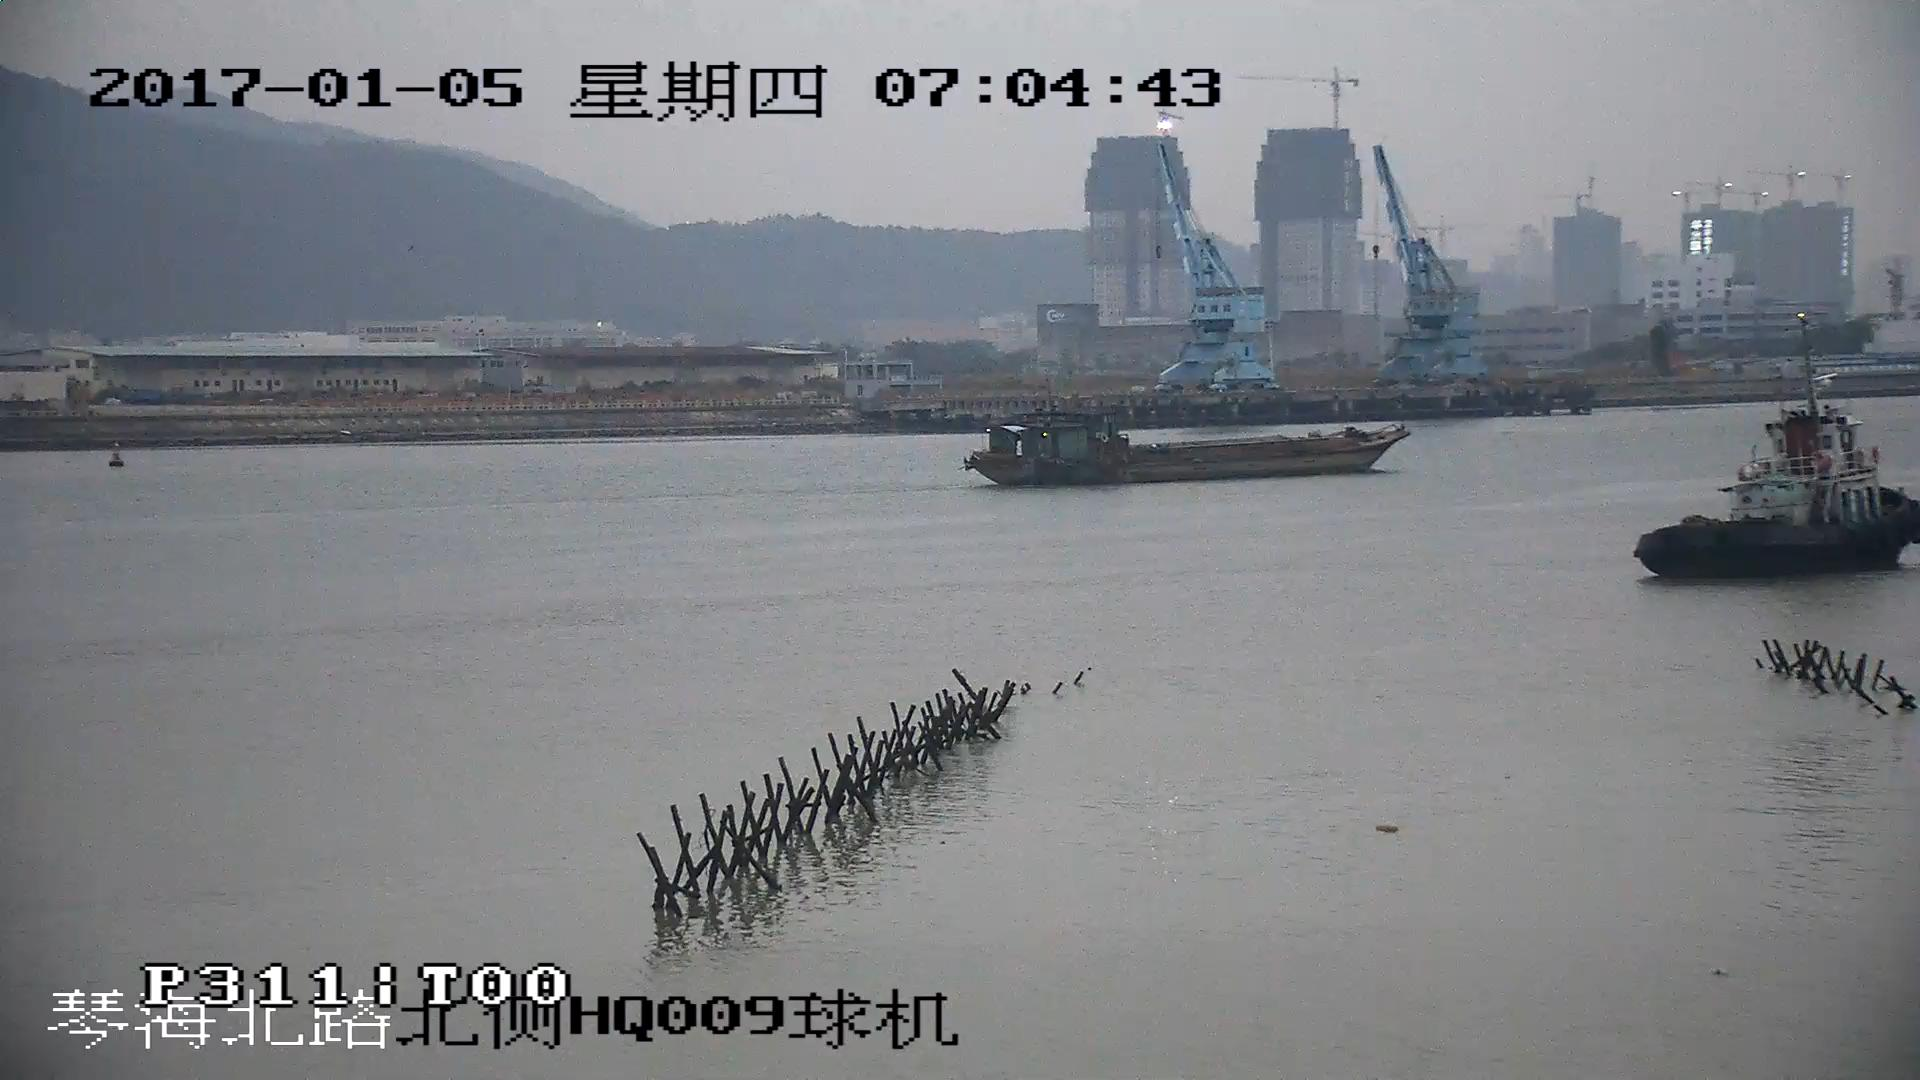bulk cargo carrier: (965, 419, 1411, 490)
